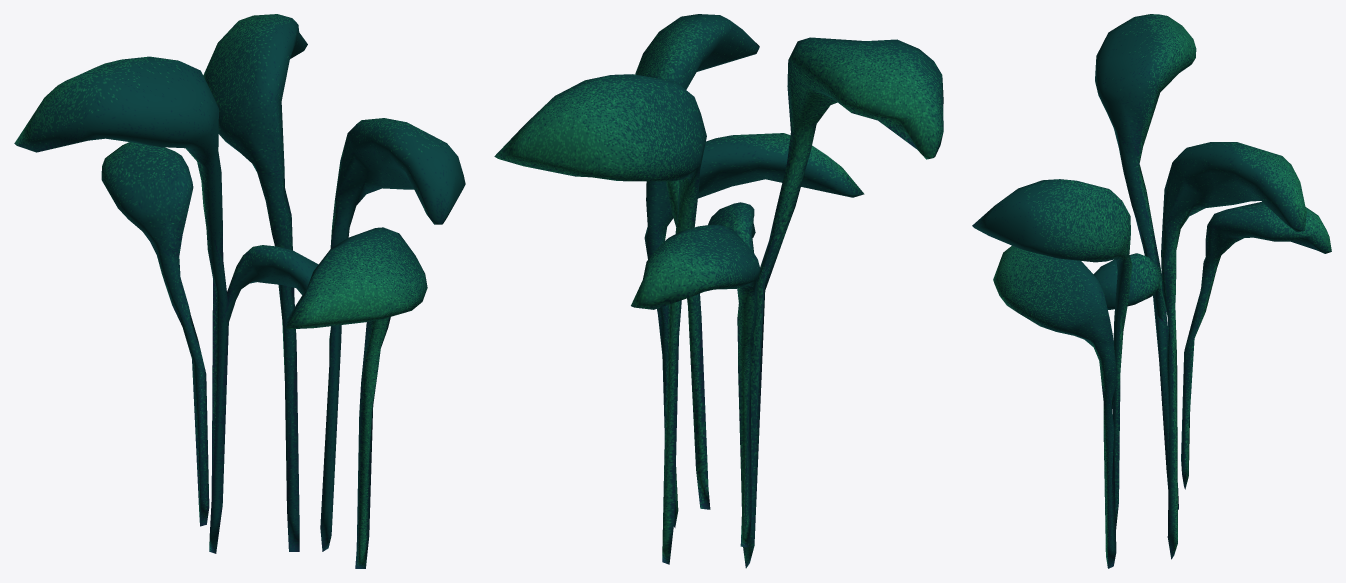
Rendered from shrub-bluepops-1a.fbx.
3 renders of one model, left to right at view 1: azimuth 30°, elevation 25°; view 2: azimuth 150°, elevation 25°; view 3: azimuth 270°, elevation 25°, orthographic. The views are drawn at different scales.
Parts seen in each view (by area): view 1: Icosphere.002; view 2: Icosphere.002; view 3: Icosphere.002.
Boxes of the visible parts, left/top/right/bottom form: Icosphere.002: left=14, top=14, right=465, bottom=568; Icosphere.002: left=494, top=14, right=943, bottom=568; Icosphere.002: left=972, top=14, right=1331, bottom=568.
Bounding box in the file's own units: 1029 × 1472 × 1055.
Materials: 1 (1 with a texture image).
